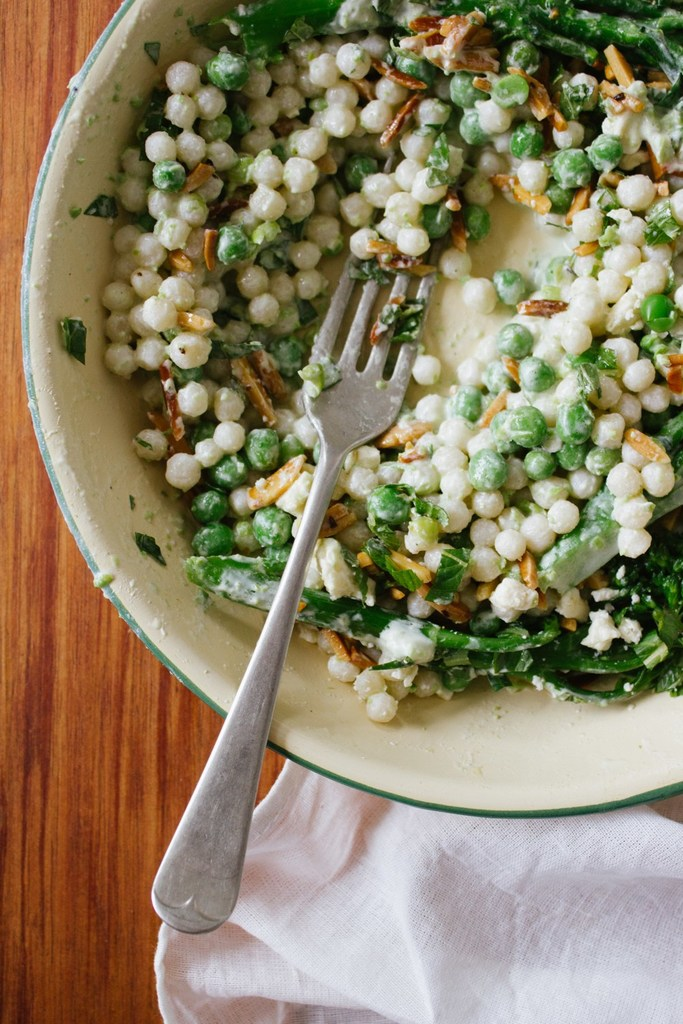salad: (68, 0, 682, 771)
